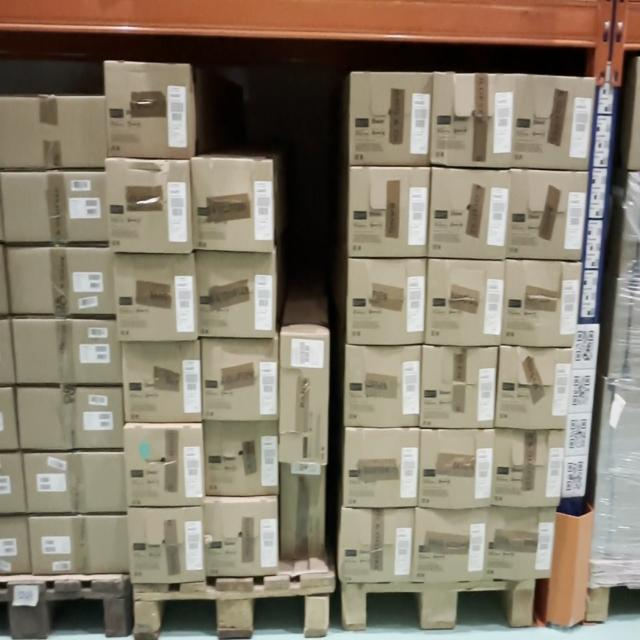box: (6, 241, 118, 316), (114, 249, 200, 343), (12, 381, 127, 450), (2, 172, 109, 246), (190, 154, 276, 246), (107, 63, 194, 153), (104, 164, 192, 251), (12, 316, 124, 383), (514, 73, 592, 169), (435, 75, 512, 167), (347, 170, 429, 256), (195, 251, 278, 335), (352, 77, 434, 162), (510, 166, 585, 257), (342, 342, 422, 425), (347, 255, 426, 339), (422, 423, 494, 511), (279, 338, 328, 466), (507, 259, 577, 348), (124, 348, 205, 424), (203, 417, 277, 499), (435, 174, 508, 257), (431, 261, 504, 344), (200, 340, 278, 417), (421, 506, 494, 588), (123, 431, 204, 503), (27, 454, 123, 514), (125, 504, 201, 579), (343, 431, 422, 503), (342, 510, 416, 585), (425, 346, 494, 422), (499, 424, 557, 512), (28, 518, 128, 568), (205, 508, 277, 575), (503, 354, 570, 420), (496, 515, 552, 579)
